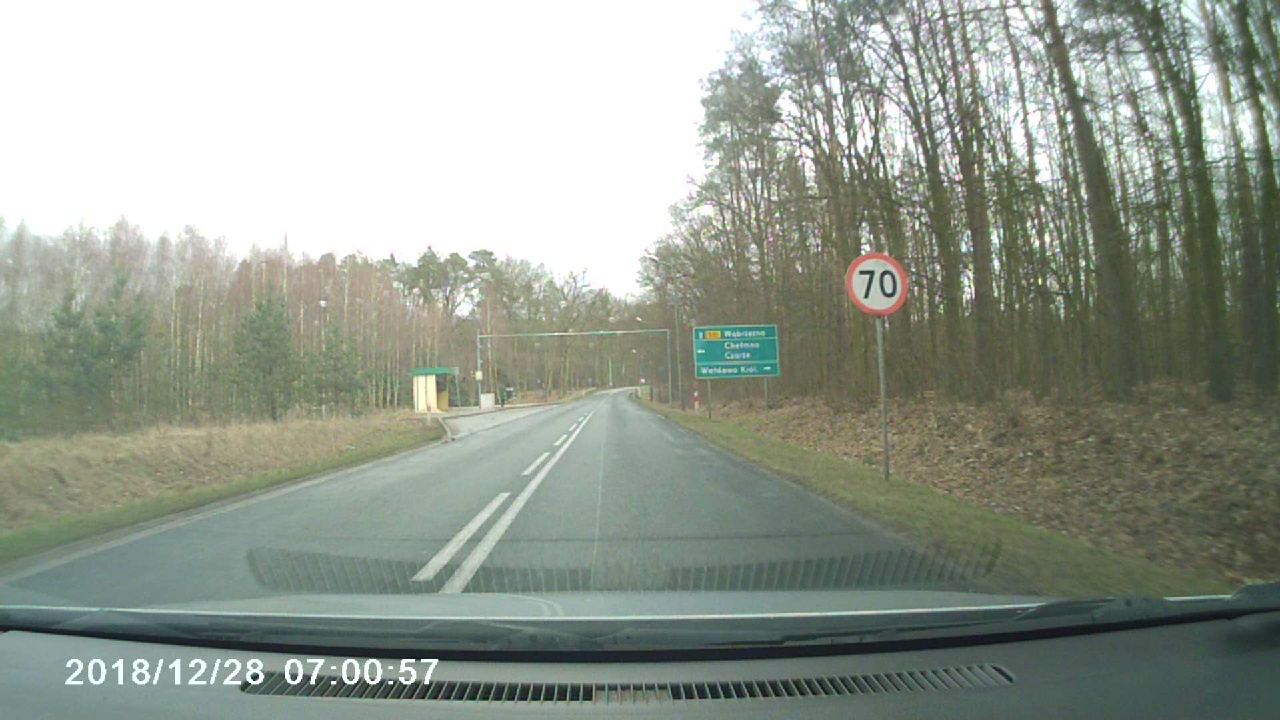B33_70: (845, 246, 913, 320)
